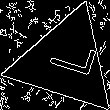L_W: (36, 39, 95, 84)
